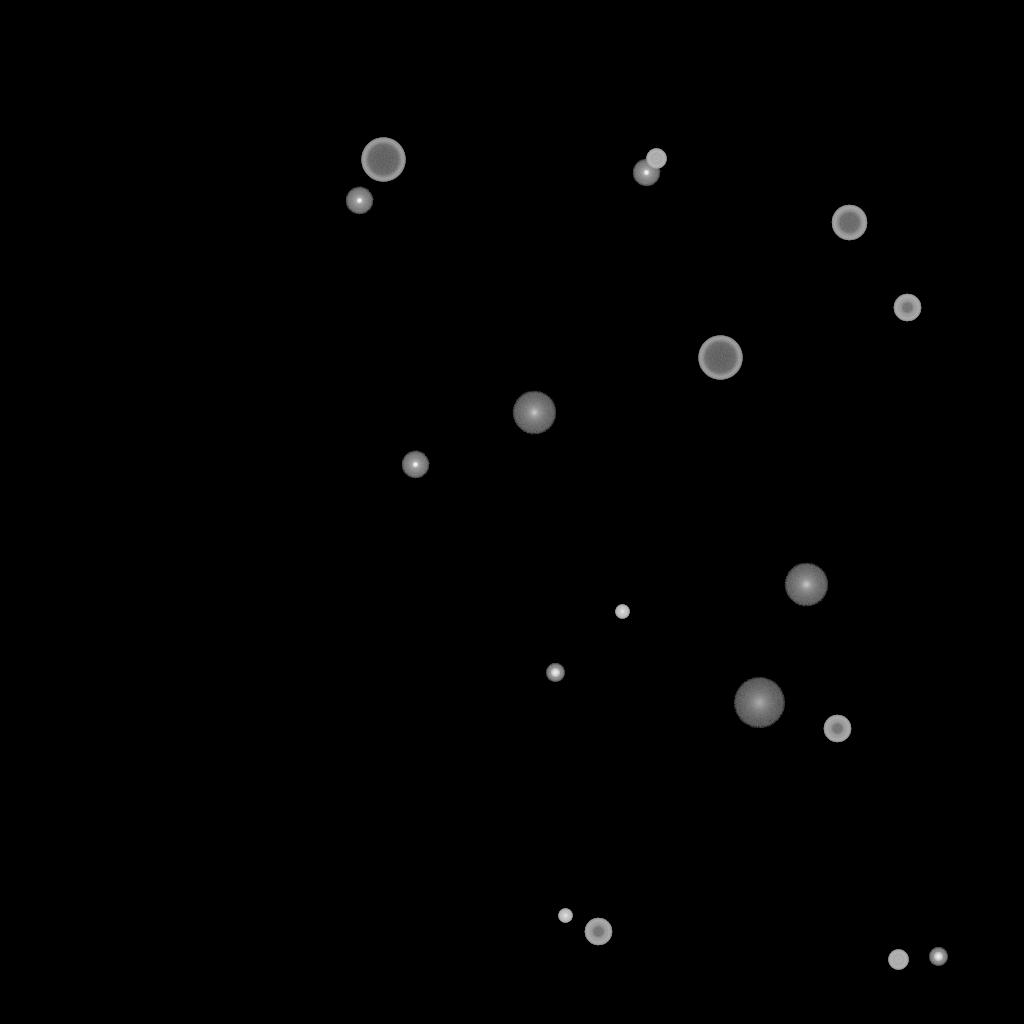depth:-10: (632, 159, 660, 187), (401, 451, 429, 479), (345, 187, 373, 215)
depth:-20: (929, 948, 947, 966), (546, 664, 564, 682)
depth:-30: (615, 605, 629, 619), (558, 909, 572, 923)
depth:-40: (646, 149, 666, 169), (888, 950, 908, 970)
depth:-50: (893, 294, 921, 322), (823, 715, 851, 743), (584, 918, 612, 946)
depth:-60: (831, 205, 867, 241)
depth:-70: (361, 138, 405, 182), (698, 336, 742, 380)
depth:10: (512, 391, 556, 435), (784, 563, 828, 607)
depth:20: (733, 678, 785, 728)
